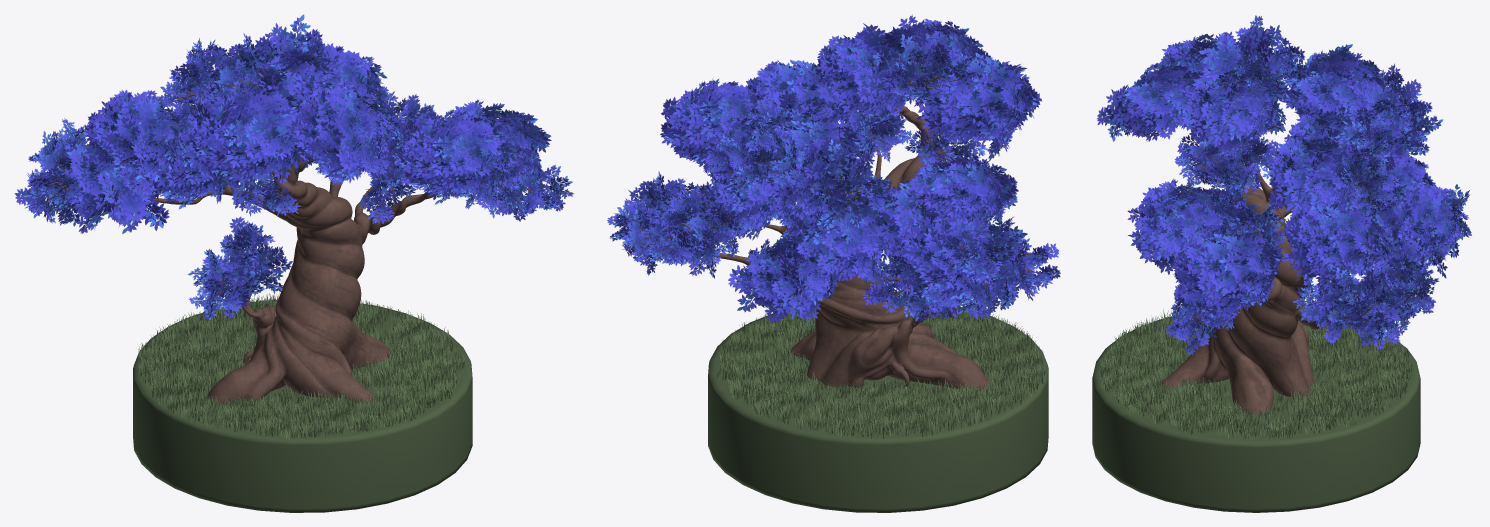
The model's file is stylized_tree.glb.
3 renders of one model, left to right at view 1: azimuth 30°, elevation 25°; view 2: azimuth 150°, elevation 25°; view 3: azimuth 270°, elevation 25°, orthographic. The views are drawn at different scales.
Visible parts, largest first — view 1: big tree, Cylinder, grass; view 2: big tree, Cylinder, grass; view 3: big tree, Cylinder, grass.
Part boxes in pixels (x1,y1,x2,y2): big tree: [14, 14, 573, 403]; Cylinder: [133, 299, 472, 512]; grass: [138, 293, 465, 439]; big tree: [607, 14, 1060, 390]; Cylinder: [708, 300, 1048, 512]; grass: [717, 299, 1045, 439]; big tree: [1096, 15, 1471, 414]; Cylinder: [1092, 316, 1420, 512]; grass: [1098, 309, 1413, 439].
Bounding box in the file's own units: 19.55 × 17.15 × 14.58.
4 materials, 2 textured.
